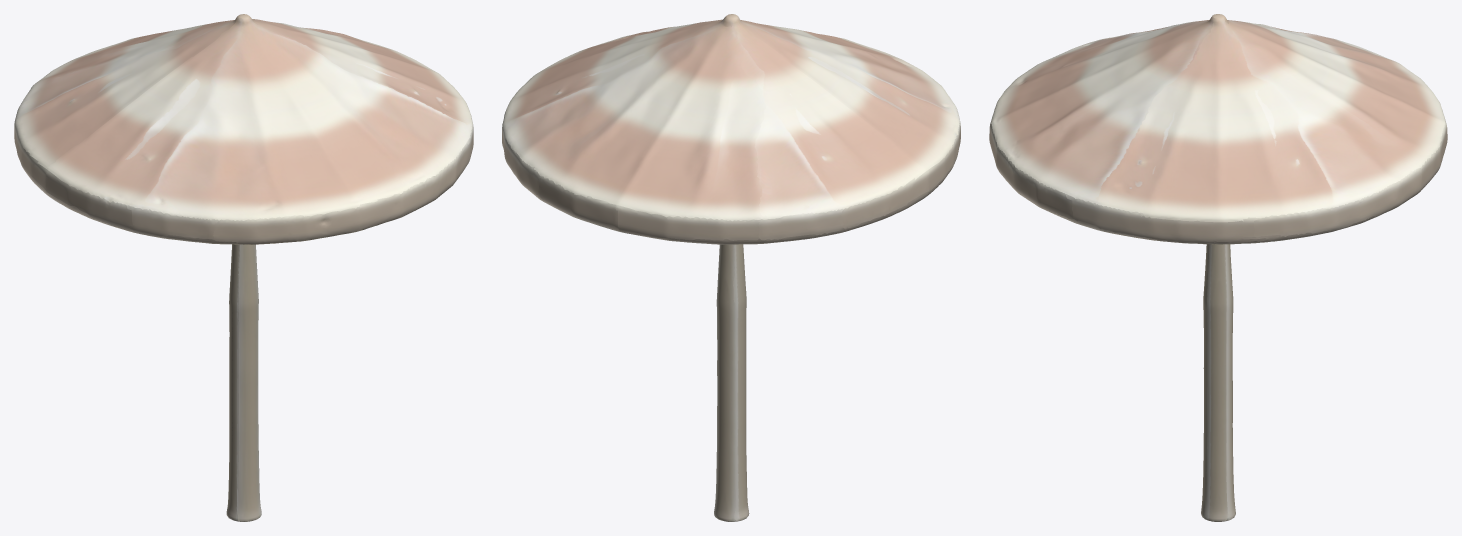
Rendered from parasol.glb.
3 renders of one model, left to right at view 1: azimuth 30°, elevation 25°; view 2: azimuth 150°, elevation 25°; view 3: azimuth 270°, elevation 25°, orthographic.
Parts seen in each view (by area): view 1: tmpcwcgv73b.ply; view 2: tmpcwcgv73b.ply; view 3: tmpcwcgv73b.ply.
Part boxes in pixels (bbox=[...]): tmpcwcgv73b.ply: bbox=[14, 14, 473, 521]; tmpcwcgv73b.ply: bbox=[502, 14, 960, 521]; tmpcwcgv73b.ply: bbox=[989, 14, 1447, 521].
Size of the model in its own units: 0.8178 by 0.988 by 0.8206.
Materials: 1 (1 with a texture image).
